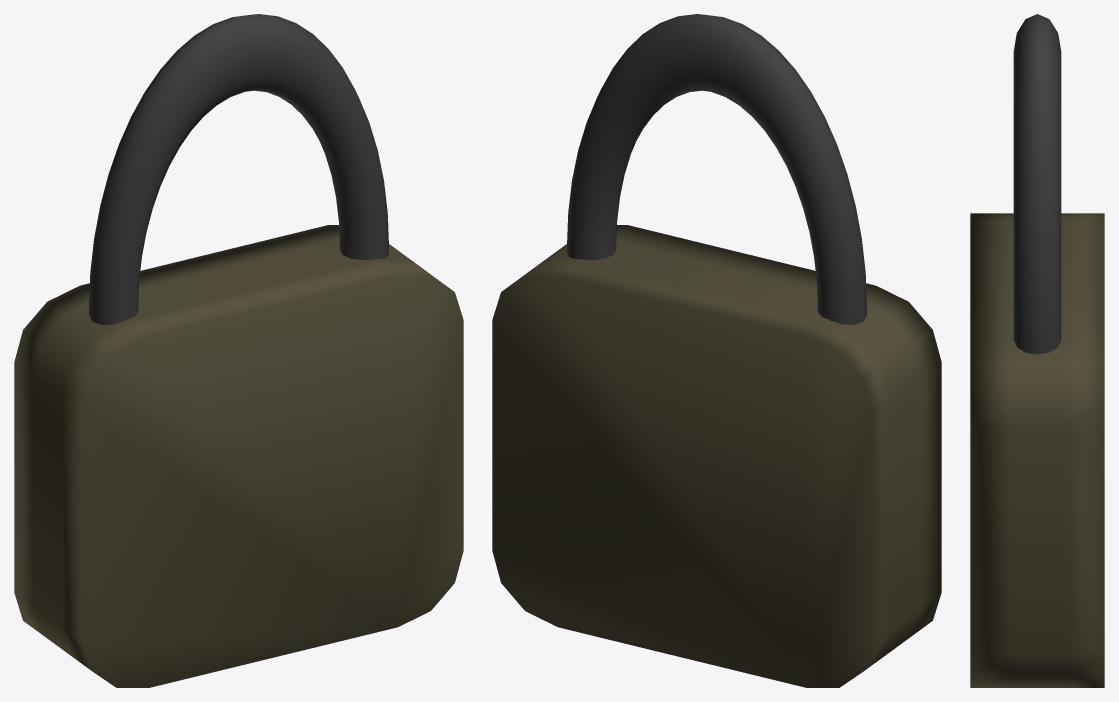
Rendered from zamok.fbx.
The picture shows the model from 3 angles, left to right: view 1: azimuth 30°, elevation 25°; view 2: azimuth 150°, elevation 25°; view 3: azimuth 270°, elevation 25°; orthographic projection. The views are drawn at different scales.
Visible parts, largest first — view 1: Cube, BézierCircle; view 2: Cube, BézierCircle; view 3: Cube, BézierCircle.
Part boxes in pixels (box(x1,y1,x2,y2)): Cube: box(14, 225, 463, 687); BézierCircle: box(89, 14, 388, 324); Cube: box(492, 225, 941, 687); BézierCircle: box(567, 14, 866, 324); Cube: box(970, 213, 1104, 687); BézierCircle: box(1013, 14, 1061, 354).
Size of the model in its own units: 329 by 510 by 104.
